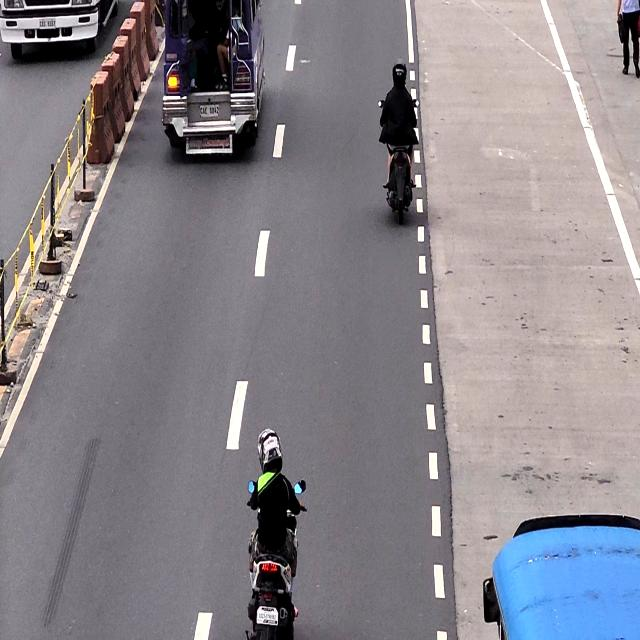Jeep: (489, 516, 640, 640), (165, 0, 264, 153)
License-Plate: (254, 606, 280, 626), (199, 104, 221, 119)
Motorcycle: (249, 431, 301, 640), (382, 62, 417, 217)
